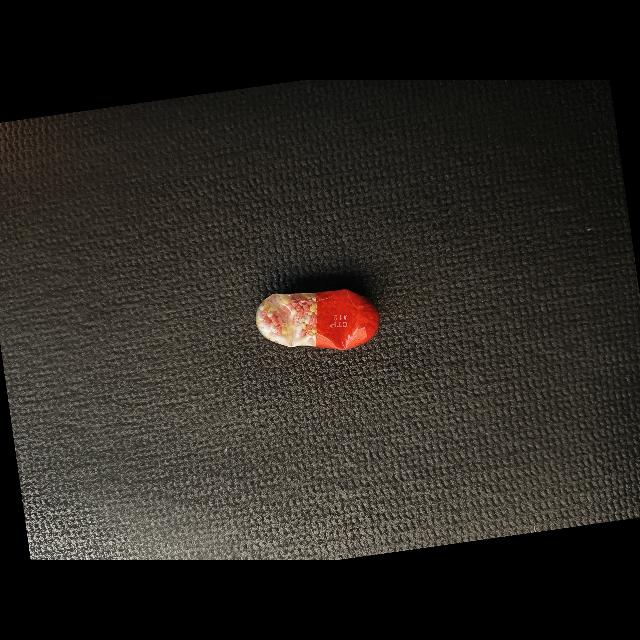Defective Capsule: (255, 289, 380, 350)
